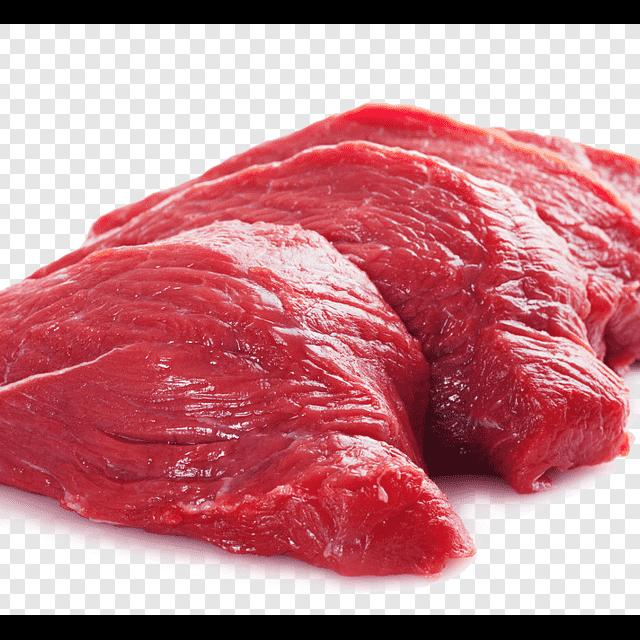beef: (116, 140, 630, 494), (0, 222, 473, 576), (414, 126, 640, 372), (510, 132, 640, 211)
